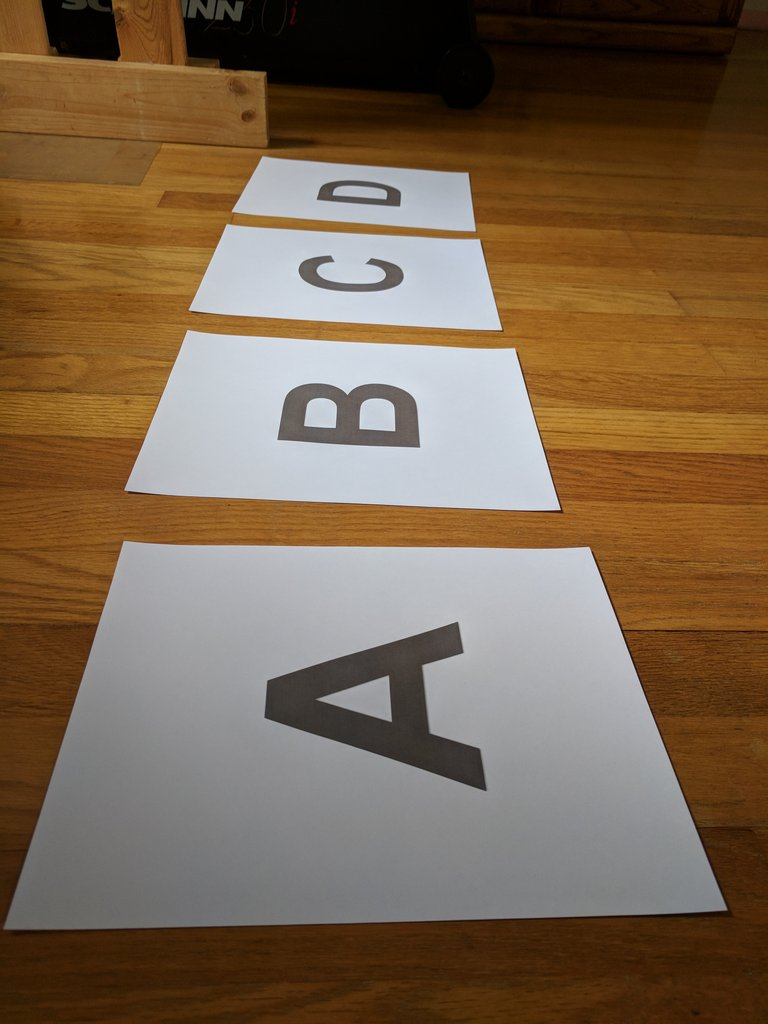home: (278, 378, 422, 449)
